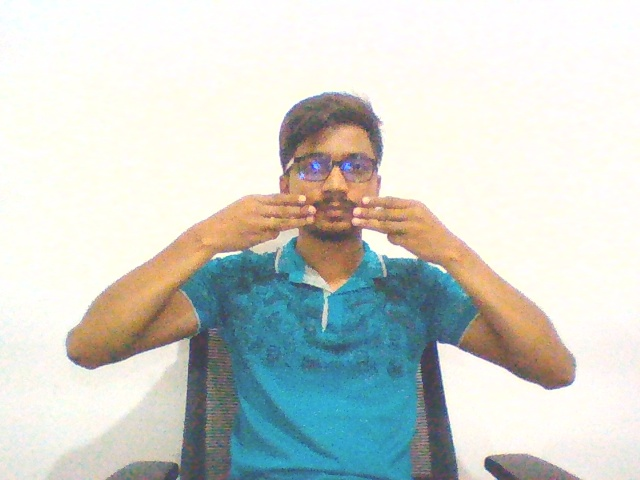cat: (174, 185, 479, 275)
